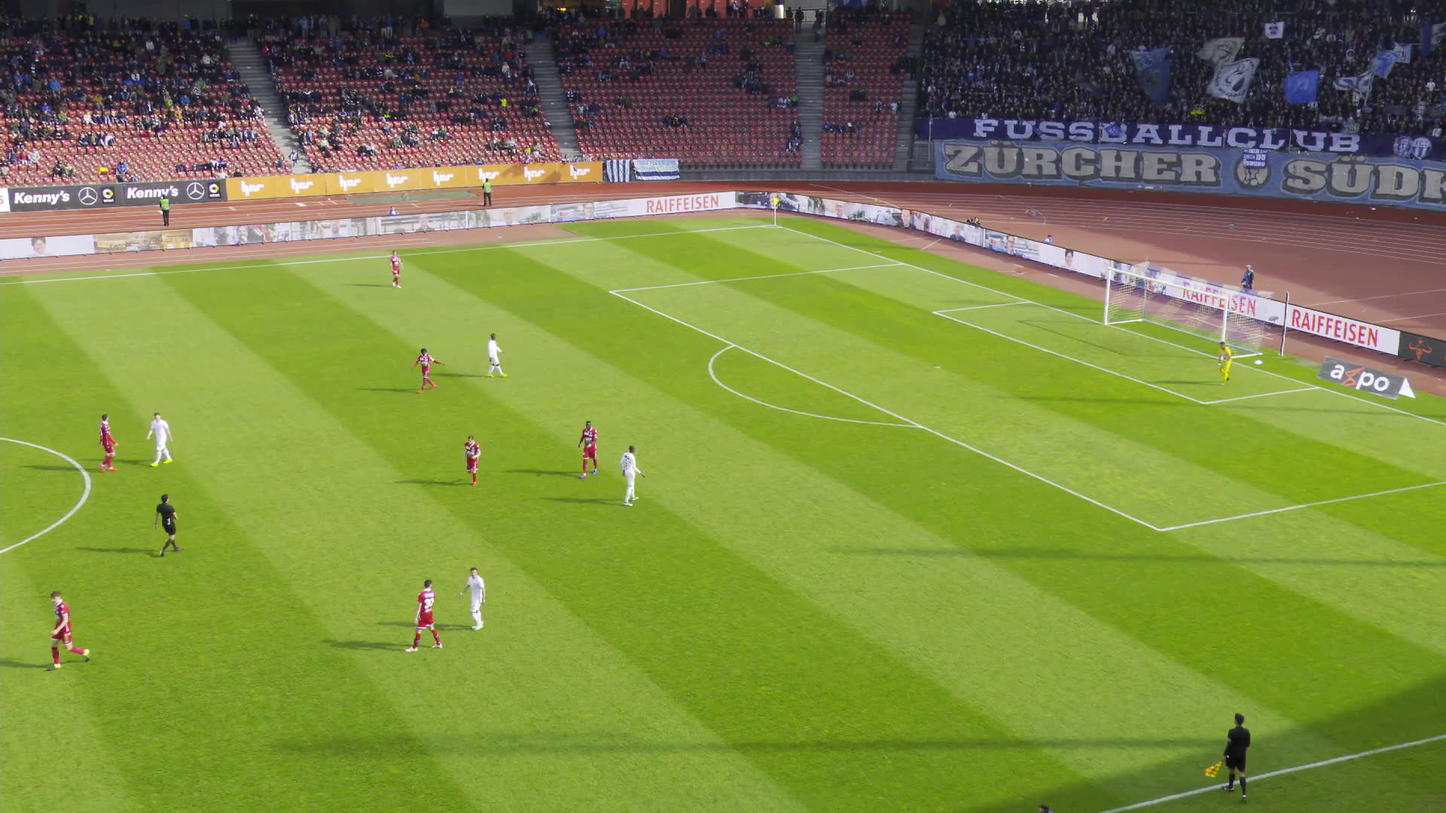player: (41, 587, 90, 673), (404, 577, 446, 653), (456, 566, 489, 632), (618, 443, 646, 505), (574, 419, 601, 480), (145, 410, 174, 466), (412, 346, 444, 394), (96, 410, 119, 473), (460, 434, 486, 489), (485, 332, 507, 377), (1216, 338, 1233, 387), (388, 249, 405, 288)
referee: (1219, 713, 1253, 802), (152, 492, 182, 556)
